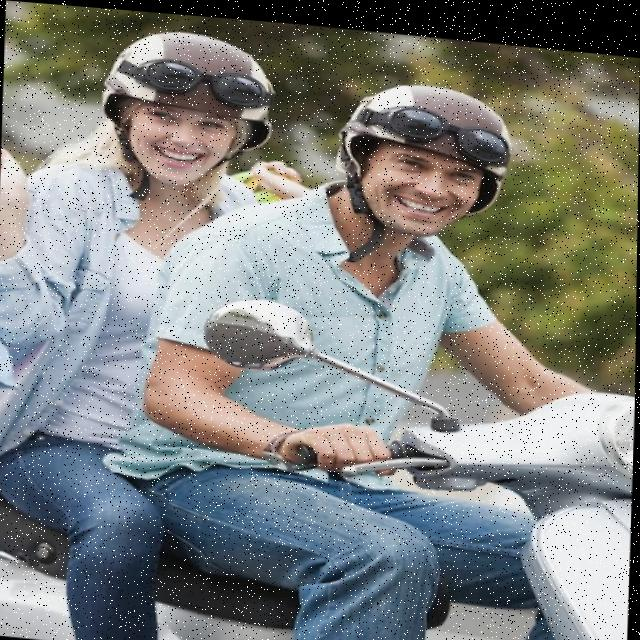helmet: (325, 65, 521, 242), (91, 17, 285, 194)
